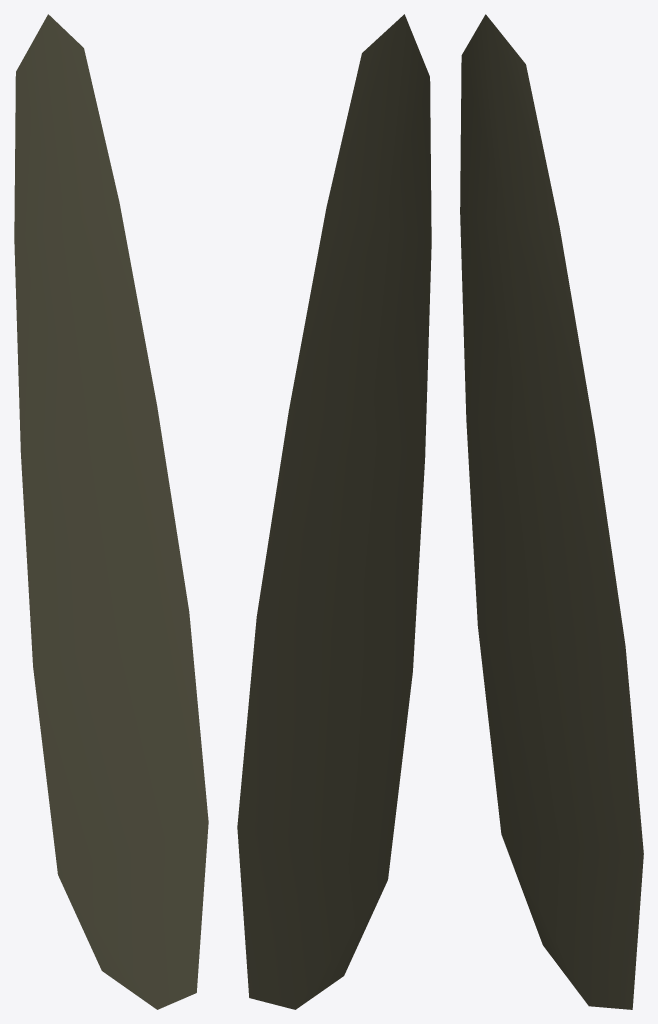
The model's file is finch_feather_flight_primary_007.obj.
The picture shows the model from 3 angles, left to right: view 1: azimuth 30°, elevation 25°; view 2: azimuth 150°, elevation 25°; view 3: azimuth 330°, elevation 25°; orthographic projection. The views are drawn at different scales.
Parts seen in each view (by area): view 1: feather_flight_primary_007; view 2: feather_flight_primary_007; view 3: feather_flight_primary_007.
Boxes of the visible parts, x1=… form: feather_flight_primary_007: x1=14, y1=14, x2=208, y2=1009; feather_flight_primary_007: x1=237, y1=14, x2=431, y2=1009; feather_flight_primary_007: x1=460, y1=14, x2=643, y2=1009.
Bounding box in the file's own units: 0.0104 × 0.0522 × 0.000318.
